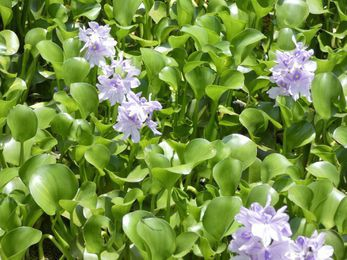water_hyacinth: (0, 2, 345, 260)
